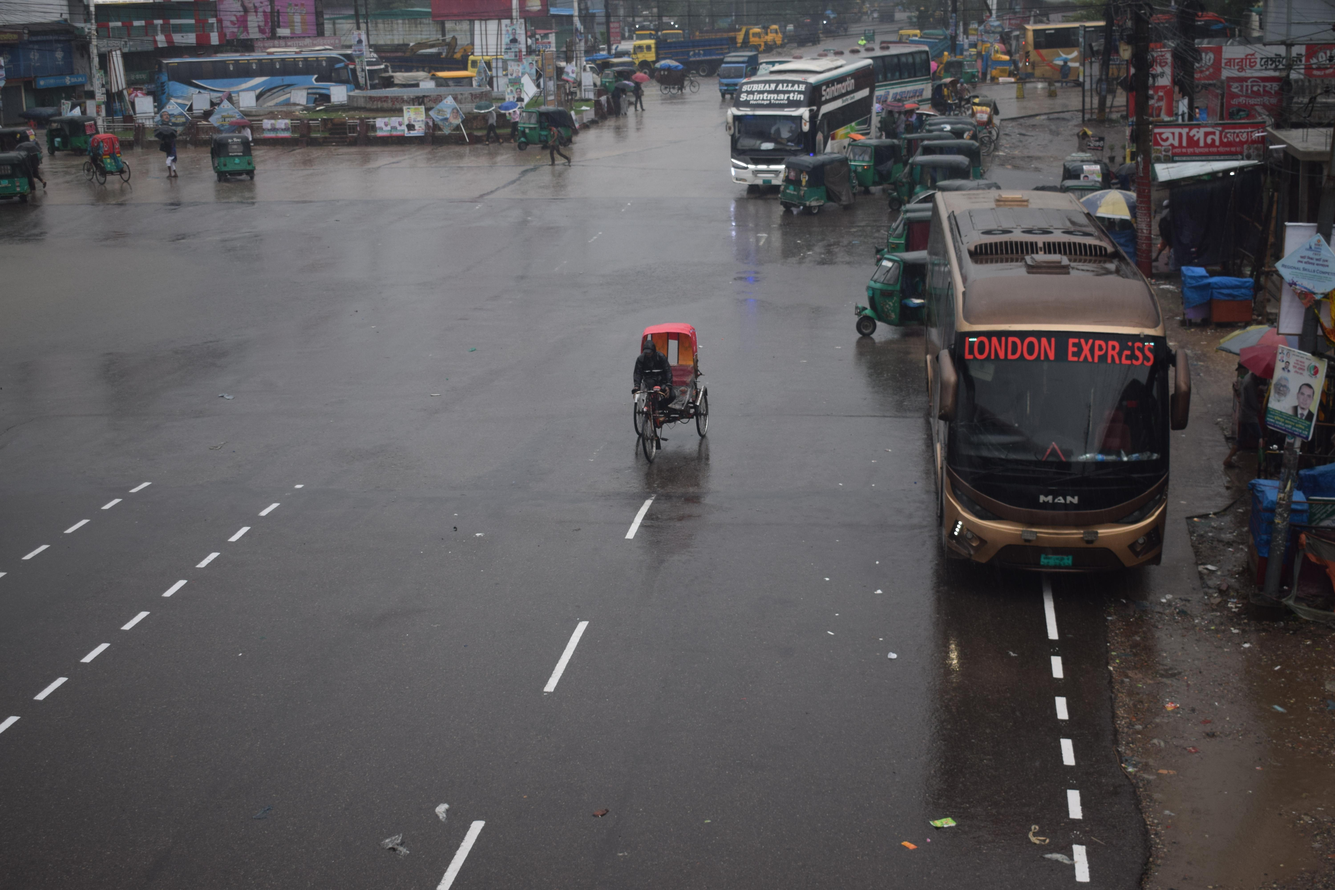Bus: (890, 161, 1203, 633), (700, 46, 884, 218), (146, 24, 376, 153), (1019, 10, 1158, 110), (826, 28, 955, 122)
Car: (577, 275, 732, 513), (67, 108, 149, 190)
Truck: (611, 17, 743, 81)
